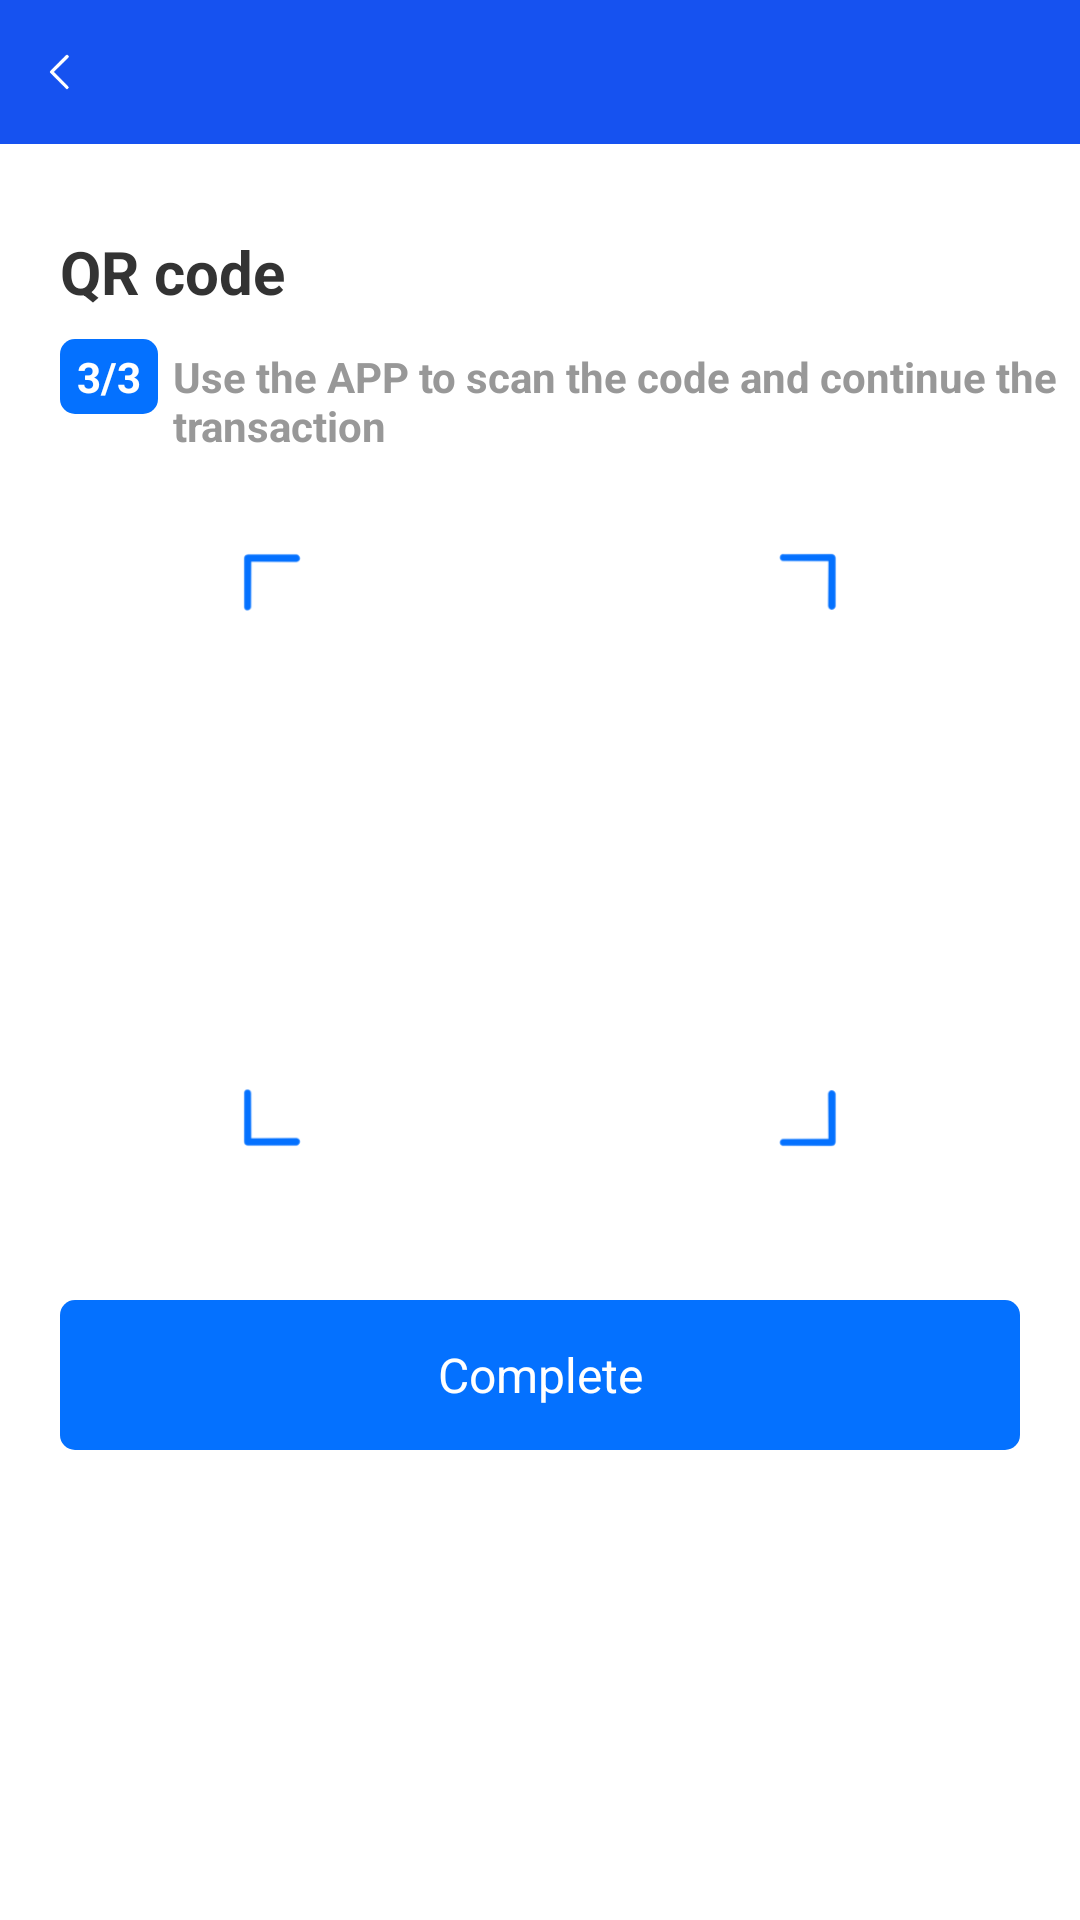

Named icons in this screenshot (1080*1920) and their bounding boxes, [x1,y1,x2,y2]:
back: [50,54,69,89]
